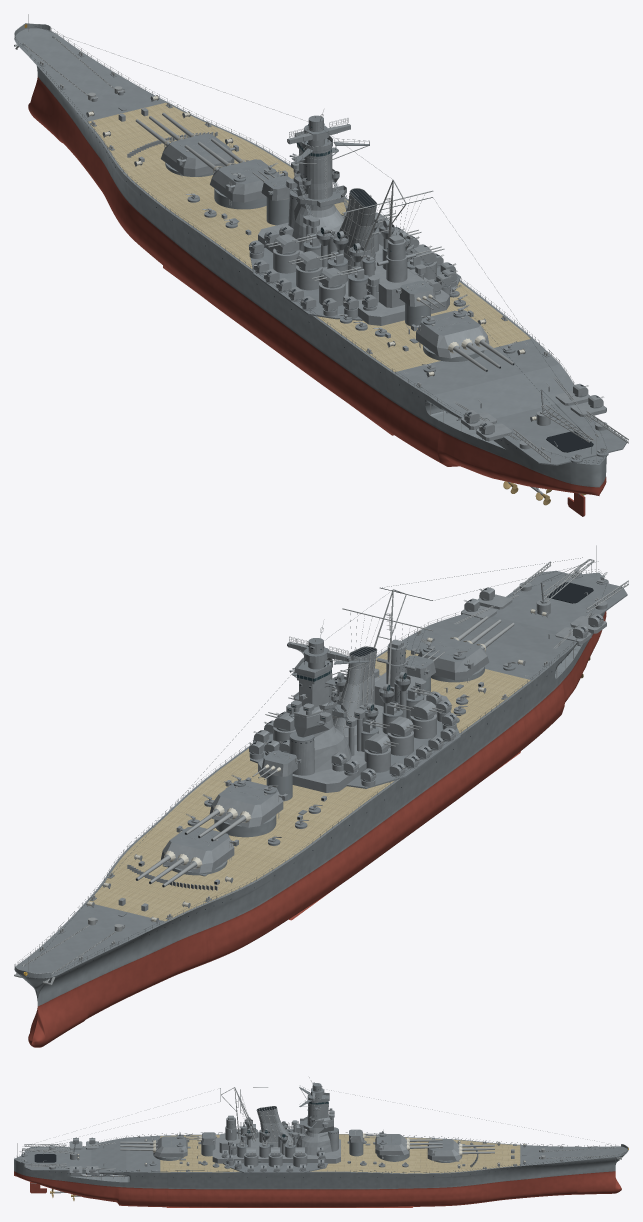
Rendered from yamato.glb.
The picture shows the model from 3 angles, top to bottom: view 1: azimuth 30°, elevation 25°; view 2: azimuth 150°, elevation 25°; view 3: azimuth 270°, elevation 25°; orthographic projection. The views are drawn at different scales.
Parts seen in each view (by area): view 1: decks-and-fittings.mesh, Blueprint lofted hull, bridge-and-directors.mesh, aircraft-deck-boats-and-handling-gear.mesh, main-3.yaw.mesh, main-1.yaw.mesh, main-2.yaw.mesh, funnel-jacket.mesh, masts-radar-and-rigging.mesh, aa-gallery-1.mesh, bridge-foundation.mesh, antiaircraft-fittings.mesh (+4 smaller); view 2: Blueprint lofted hull, decks-and-fittings.mesh, bridge-and-directors.mesh, aircraft-deck-boats-and-handling-gear.mesh, main-1.yaw.mesh, main-2.yaw.mesh, main-3.yaw.mesh, funnel-jacket.mesh, masts-radar-and-rigging.mesh, bridge-foundation.mesh, aa-gallery-1.mesh, funnel.mesh (+5 smaller); view 3: Blueprint lofted hull, decks-and-fittings.mesh, bridge-and-directors.mesh, aircraft-deck-boats-and-handling-gear.mesh, funnel-jacket.mesh, main-2.yaw.mesh, main-3.yaw.mesh, main-1.yaw.mesh, bridge-foundation.mesh, aa-gallery--1.mesh, antiaircraft-fittings.mesh, masts-radar-and-rigging.mesh (+5 smaller).
Part boxes in pixels (<box>): decks-and-fittings.mesh: <box>14,28,606,464</box>; Blueprint lofted hull: <box>17,44,606,495</box>; bridge-and-directors.mesh: <box>258,123,449,325</box>; aircraft-deck-boats-and-handling-gear.mesh: <box>404,342,628,465</box>; main-3.yaw.mesh: <box>411,310,489,358</box>; main-1.yaw.mesh: <box>161,133,238,177</box>; main-2.yaw.mesh: <box>210,159,287,206</box>; funnel-jacket.mesh: <box>339,188,376,274</box>; masts-radar-and-rigging.mesh: <box>28,14,598,462</box>; aa-gallery-1.mesh: <box>250,247,362,320</box>; bridge-foundation.mesh: <box>291,202,344,251</box>; antiaircraft-fittings.mesh: <box>188,201,587,447</box>; Blueprint lofted hull: <box>15,611,606,1047</box>; decks-and-fittings.mesh: <box>14,569,606,985</box>; bridge-and-directors.mesh: <box>258,639,449,792</box>; aircraft-deck-boats-and-handling-gear.mesh: <box>406,559,628,678</box>; main-1.yaw.mesh: <box>161,825,238,873</box>; main-2.yaw.mesh: <box>209,780,287,827</box>; main-3.yaw.mesh: <box>411,637,489,682</box>; funnel-jacket.mesh: <box>333,647,376,745</box>; masts-radar-and-rigging.mesh: <box>28,545,598,971</box>; bridge-foundation.mesh: <box>313,725,351,772</box>; aa-gallery-1.mesh: <box>346,720,460,788</box>; funnel.mesh: <box>334,646,377,736</box>; Blueprint lofted hull: <box>14,1154,625,1207</box>; decks-and-fittings.mesh: <box>14,1132,627,1173</box>; bridge-and-directors.mesh: <box>212,1085,340,1167</box>; aircraft-deck-boats-and-handling-gear.mesh: <box>22,1138,157,1180</box>; funnel-jacket.mesh: <box>257,1106,293,1152</box>; main-2.yaw.mesh: <box>375,1132,409,1158</box>; main-3.yaw.mesh: <box>153,1134,187,1160</box>; main-1.yaw.mesh: <box>427,1137,461,1161</box>; bridge-foundation.mesh: <box>296,1130,331,1155</box>; aa-gallery--1.mesh: <box>223,1163,327,1172</box>; antiaircraft-fittings.mesh: <box>43,1129,407,1172</box>; masts-radar-and-rigging.mesh: <box>17,1087,594,1158</box>.
Size of the model in its own units: 41.12 by 55.32 by 263.
13 materials, 6 textured.
